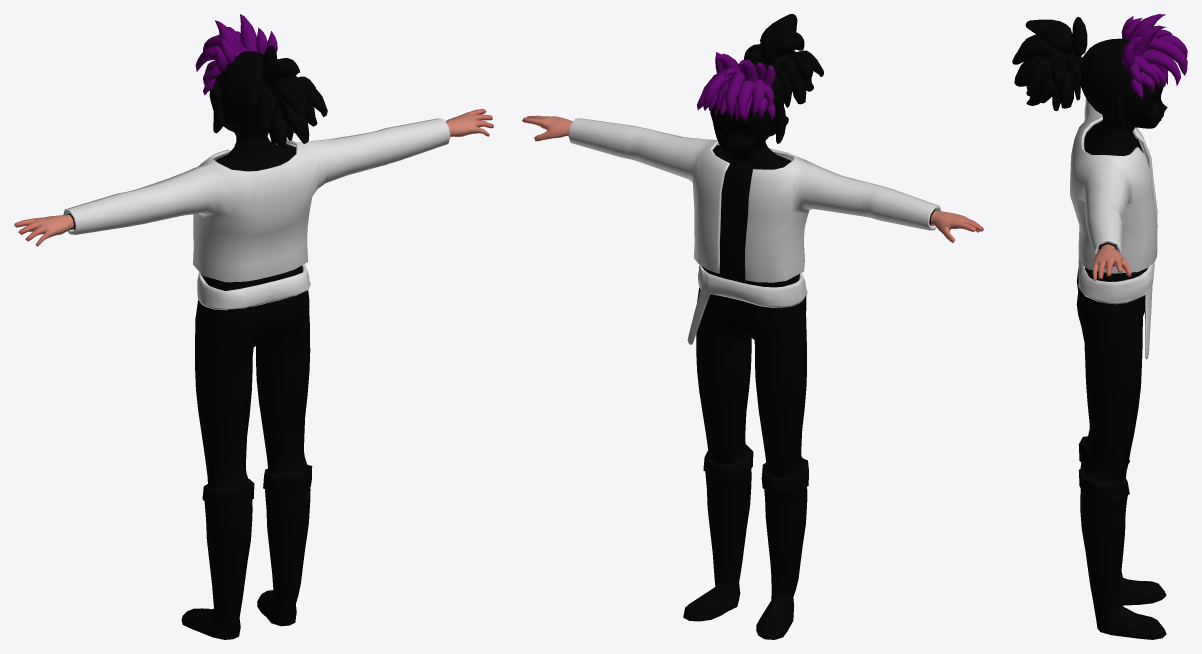
3 renders of one model, left to right at view 1: azimuth 30°, elevation 25°; view 2: azimuth 150°, elevation 25°; view 3: azimuth 270°, elevation 25°, orthographic. The views are drawn at different scales.
Visible parts, largest first — view 1: Cuerpo, Chaqueta, Pelo, Cinturón; view 2: Cuerpo, Chaqueta, Pelo, Cinturón; view 3: Cuerpo, Chaqueta, Pelo, Cinturón.
Part boxes in pixels (x1=…): Cuerpo: x1=14, y1=45, x2=493, y2=639; Chaqueta: x1=63, y1=118, x2=450, y2=282; Pelo: x1=195, y1=14, x2=277, y2=95; Cinturón: x1=197, y1=264, x2=310, y2=310; Cuerpo: x1=522, y1=14, x2=983, y2=639; Chaqueta: x1=568, y1=118, x2=941, y2=282; Pelo: x1=697, y1=52, x2=775, y2=121; Cinturón: x1=687, y1=265, x2=807, y2=344; Cuerpo: x1=1012, y1=17, x2=1167, y2=639; Chaqueta: x1=1070, y1=98, x2=1157, y2=273; Pelo: x1=1121, y1=14, x2=1187, y2=98; Cinturón: x1=1078, y1=257, x2=1154, y2=359.
Bounding box in the file's own units: 149 × 179 × 47.68.
